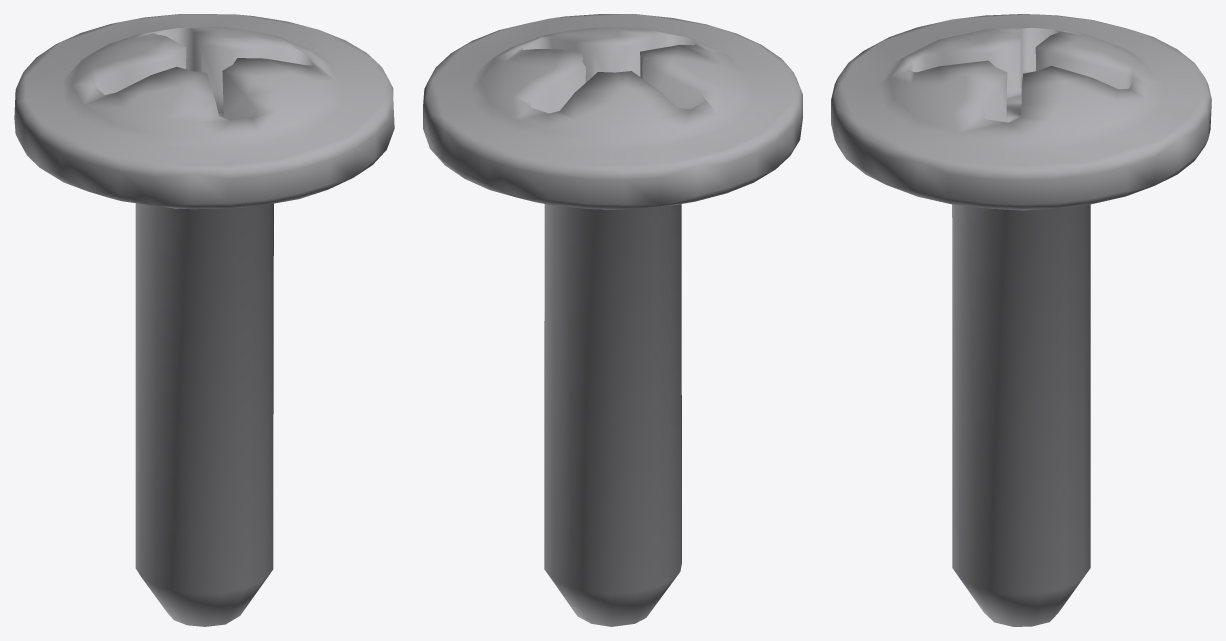
Rendered from Screw.fbx.
3 views of the same model, side by side, from view 1: azimuth 30°, elevation 25°; view 2: azimuth 150°, elevation 25°; view 3: azimuth 270°, elevation 25° (orthographic).
Parts seen in each view (by area): view 1: Screw; view 2: Screw; view 3: Screw.
Boxes of the visible parts, x1=… form: Screw: x1=14, y1=14, x2=394, y2=626; Screw: x1=423, y1=14, x2=802, y2=626; Screw: x1=831, y1=14, x2=1211, y2=626.
Bounding box in the file's own units: 40 × 63.99 × 40.
